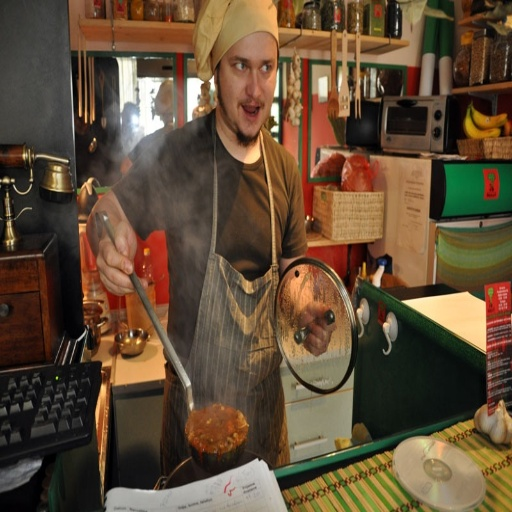hand: (87, 191, 142, 309), (295, 297, 337, 358)
